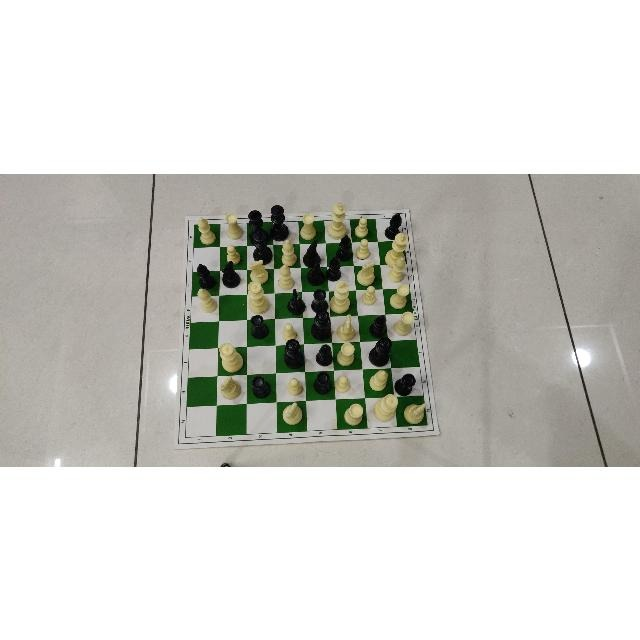black-bishop: (194, 260, 217, 289), (334, 230, 355, 261), (312, 341, 333, 367), (324, 255, 345, 281), (384, 211, 403, 239), (366, 313, 389, 336)
black-king: (266, 204, 291, 241), (249, 227, 275, 262), (244, 210, 270, 244)
black-knight: (284, 286, 309, 315), (218, 261, 241, 289), (301, 240, 324, 265), (305, 259, 327, 284)
black-queen: (282, 336, 306, 369), (368, 336, 394, 365), (311, 309, 332, 340)
black-rook: (245, 313, 273, 338), (248, 374, 274, 398), (309, 288, 329, 314), (312, 370, 331, 395), (396, 371, 416, 394)
white-bishop: (195, 285, 218, 313), (196, 215, 216, 245), (387, 253, 406, 282), (278, 238, 298, 265), (368, 368, 389, 390), (278, 263, 294, 288)
white-king: (329, 278, 353, 314), (384, 232, 408, 266), (327, 201, 349, 237)
white-knight: (402, 396, 426, 426), (245, 257, 270, 285), (217, 376, 245, 399), (279, 399, 304, 424), (336, 313, 356, 340), (357, 260, 378, 285)
white-pawn: (278, 320, 303, 342), (350, 215, 375, 237), (221, 241, 242, 266), (283, 377, 306, 397), (358, 283, 378, 306), (354, 236, 373, 257), (334, 372, 352, 391)
white-queen: (214, 341, 249, 372), (244, 281, 272, 314), (373, 392, 399, 426)
white-rook: (222, 212, 245, 242), (343, 402, 370, 426), (298, 212, 322, 238), (388, 283, 412, 309), (393, 310, 416, 335), (337, 341, 355, 365)
